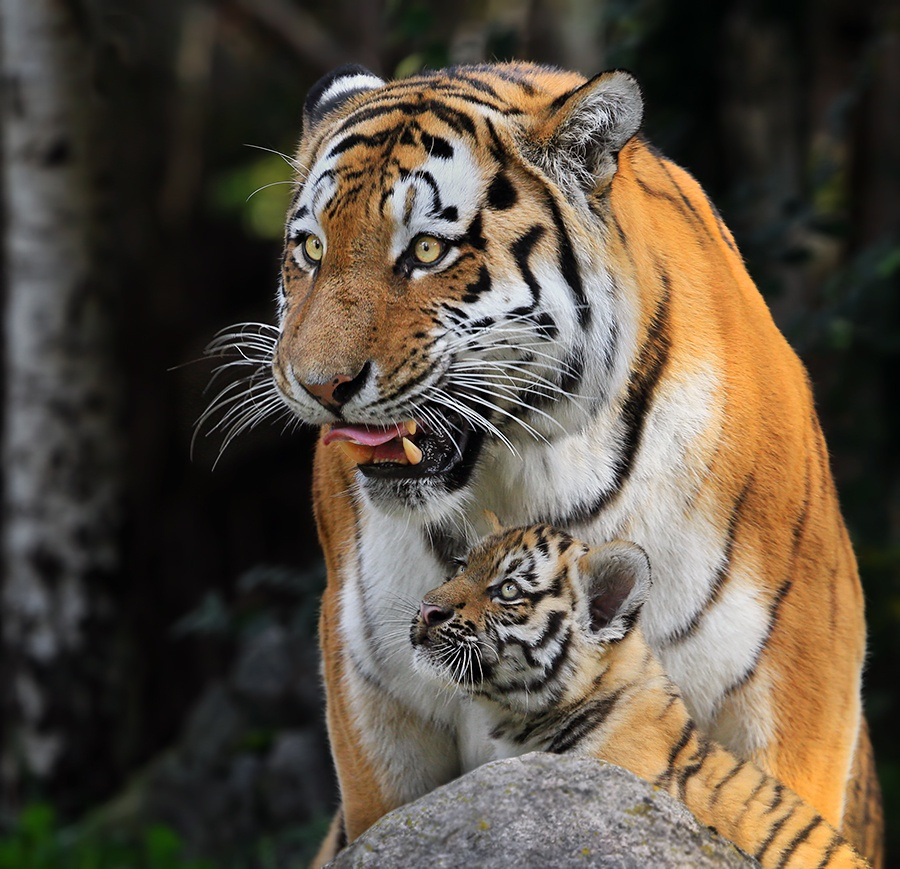tiger: (271, 59, 900, 818), (421, 531, 862, 855)
